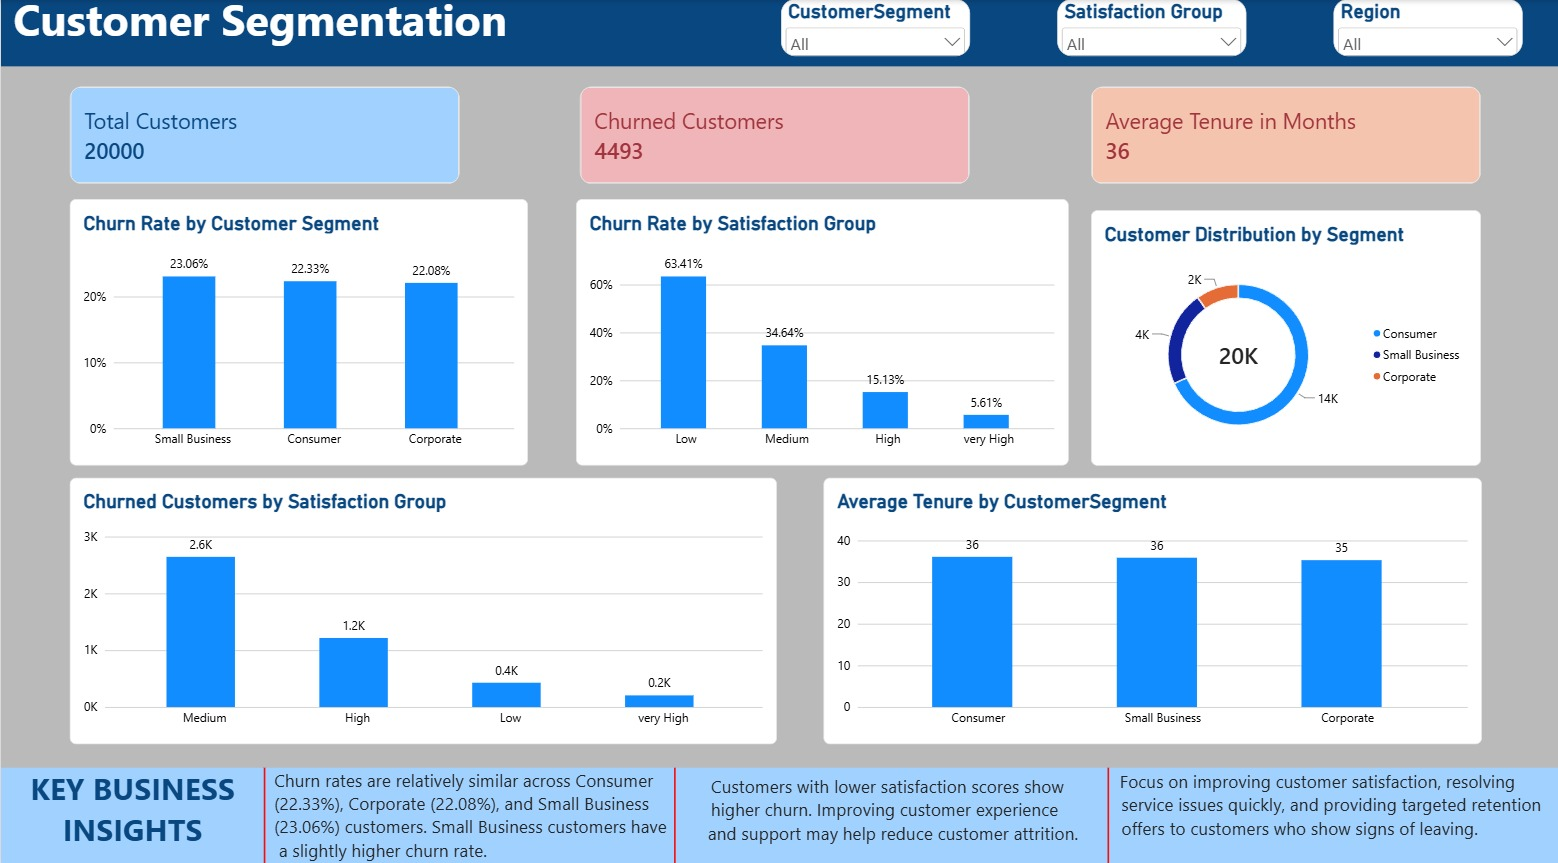

The page's visual inventory and layout, read from the dashboard file:
{"tool":"powerbi","page":{"name":"Customer Segmentation","canvas":[1920,1080],"ordinal":2},"visuals":[{"type":"textbox","box":[0,0,1920,95],"z":0},{"type":"slicer","fields":{"Values":["Customer Churn Analysis Dataset.CustomerSegment"]},"box":[960,12.5,232.5,70],"z":0,"group":"g1"},{"type":"textbox","title":"KEY BUSINESS INSIGHTS","box":[0,958,1920,122],"z":0,"group":"g2"},{"type":"group","id":"g1","title":"Group 1","box":[960,12.5,912.5,70],"z":1000},{"type":"slicer","fields":{"Values":["Customer Churn Analysis Dataset.Satisfaction Group"]},"box":[1300,12.5,232.5,70],"z":1000,"group":"g1"},{"type":"textbox","box":[324,958,506,122],"z":1000,"group":"g2"},{"type":"slicer","fields":{"Values":["Dim Region.Region"]},"box":[1640,12.5,232.5,70],"z":2000,"group":"g1"},{"type":"clusteredColumnChart","title":"Churn Rate by Customer Segment","fields":{"Category":["Customer Churn Analysis Dataset.CustomerSegment"],"Y":["DAX Measures.Churn Rate %"]},"box":[84,258,564,328],"z":2000},{"type":"cardVisual","fields":{"Data":["DAX Measures.Total Customers"]},"box":[84,120,480,120],"z":3000},{"type":"cardVisual","fields":{"Data":["DAX Measures.Churned Customers"]},"box":[713,120,480,120],"z":4000},{"type":"cardVisual","fields":{"Data":["DAX Measures.Average Tenure"]},"box":[1342,120,480,120],"z":5000},{"type":"clusteredColumnChart","title":"Churn Rate by Satisfaction Group","fields":{"Category":["Customer Churn Analysis Dataset.Satisfaction Group"],"Y":["DAX Measures.Churn Rate %"]},"box":[708,258,606,328],"z":6000},{"type":"clusteredColumnChart","title":"Churned Customers by Satisfaction Group","fields":{"Category":["Customer Churn Analysis Dataset.Satisfaction Group"],"Y":["DAX Measures.Churned Customers"]},"box":[84,602,870,328],"z":7000},{"type":"clusteredColumnChart","fields":{"Category":["Dim Customer Segment.CustomerSegment"],"Y":["DAX Measures.Average Tenure"]},"box":[1012,602,810,328],"z":8000},{"type":"donutChart","title":"Customer Distribution by Segment","fields":{"Category":["Dim Customer Segment.CustomerSegment"],"Y":["DAX Measures.Total Customers"]},"box":[1342,272,480,314],"z":9000},{"type":"group","id":"g2","title":"Group 2","box":[0,958,1920,122],"z":10000},{"type":"textbox","box":[0,958,324,122],"z":10003,"group":"g2"},{"type":"shape","box":[276,958,98,122],"z":11000,"group":"g2"},{"type":"shape","box":[796,958,68,122],"z":11000,"group":"g2"},{"type":"shape","box":[1314,958,98,122],"z":12000,"group":"g2"},{"type":"textbox","box":[1362,960,556,120],"z":12001,"group":"g2"},{"type":"textbox","box":[858,966,484,102],"z":13000,"group":"g2"}]}

Visuals, with their boxes in screenshot pixels (x1, y1, x2, y2), scaled from the page's 1920x1080 canvas onto the 1558x863 screenshot:
textbox: {"x1": 0, "y1": 0, "x2": 1557, "y2": 76}
slicer - Customer Churn Analysis Dataset.CustomerSegment: {"x1": 779, "y1": 10, "x2": 968, "y2": 66}
"KEY BUSINESS INSIGHTS" textbox: {"x1": 0, "y1": 766, "x2": 1557, "y2": 862}
"Group 1" group: {"x1": 779, "y1": 10, "x2": 1519, "y2": 66}
slicer - Customer Churn Analysis Dataset.Satisfaction Group: {"x1": 1055, "y1": 10, "x2": 1244, "y2": 66}
textbox: {"x1": 263, "y1": 766, "x2": 674, "y2": 862}
slicer - Dim Region.Region: {"x1": 1331, "y1": 10, "x2": 1519, "y2": 66}
"Churn Rate by Customer Segment" clusteredColumnChart: {"x1": 68, "y1": 206, "x2": 526, "y2": 468}
cardVisual - DAX Measures.Total Customers: {"x1": 68, "y1": 96, "x2": 458, "y2": 192}
cardVisual - DAX Measures.Churned Customers: {"x1": 579, "y1": 96, "x2": 968, "y2": 192}
cardVisual - DAX Measures.Average Tenure: {"x1": 1089, "y1": 96, "x2": 1478, "y2": 192}
"Churn Rate by Satisfaction Group" clusteredColumnChart: {"x1": 575, "y1": 206, "x2": 1066, "y2": 468}
"Churned Customers by Satisfaction Group" clusteredColumnChart: {"x1": 68, "y1": 481, "x2": 774, "y2": 743}
clusteredColumnChart - Dim Customer Segment.CustomerSegment x DAX Measures.Average Tenure: {"x1": 821, "y1": 481, "x2": 1478, "y2": 743}
"Customer Distribution by Segment" donutChart: {"x1": 1089, "y1": 217, "x2": 1478, "y2": 468}
"Group 2" group: {"x1": 0, "y1": 766, "x2": 1557, "y2": 862}
textbox: {"x1": 0, "y1": 766, "x2": 263, "y2": 862}
shape: {"x1": 224, "y1": 766, "x2": 303, "y2": 862}
shape: {"x1": 646, "y1": 766, "x2": 701, "y2": 862}
shape: {"x1": 1066, "y1": 766, "x2": 1146, "y2": 862}
textbox: {"x1": 1105, "y1": 767, "x2": 1556, "y2": 862}
textbox: {"x1": 696, "y1": 772, "x2": 1089, "y2": 853}
